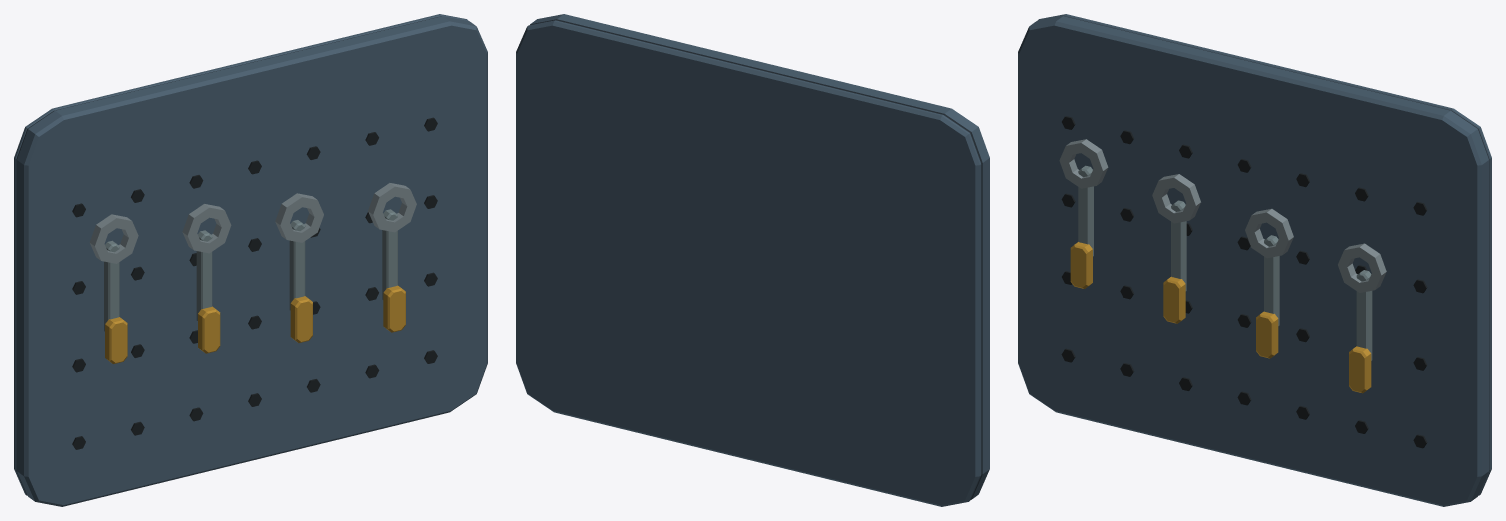
Rendered from T-02_toolboard.glb.
3 views of the same model, side by side, from view 1: azimuth 30°, elevation 25°; view 2: azimuth 150°, elevation 25°; view 3: azimuth 330°, elevation 25° (orthographic).
Visible parts, largest first — view 1: T-02_toolboard; view 2: T-02_toolboard; view 3: T-02_toolboard.
Part boxes in pixels (<box>): T-02_toolboard: <box>14,14,487,506</box>; T-02_toolboard: <box>516,14,989,506</box>; T-02_toolboard: <box>1018,14,1491,506</box>.
Bounding box in the file's own units: 0.72 × 0.58 × 0.078.
